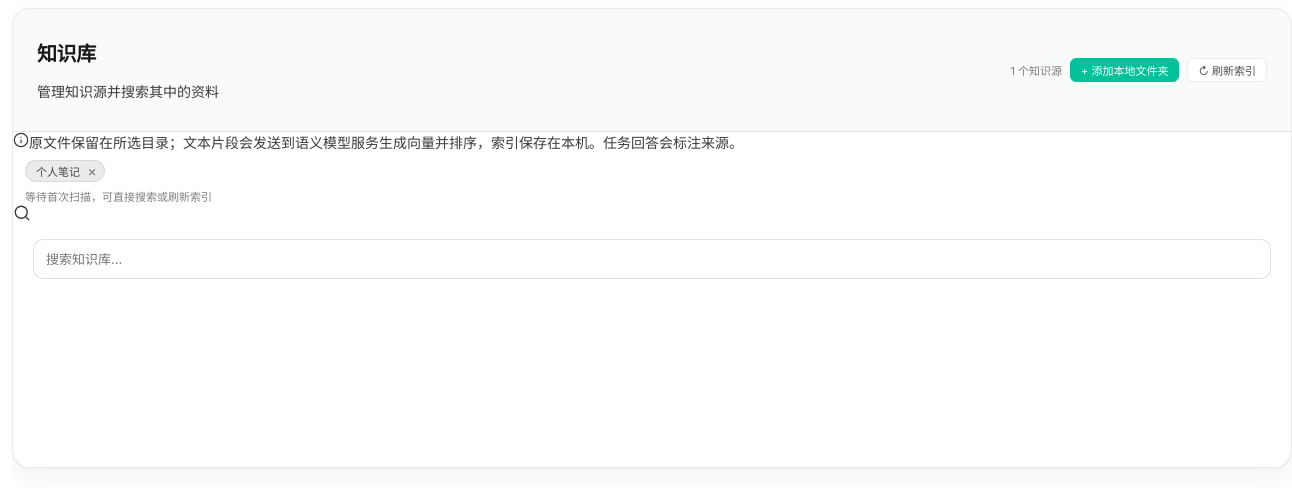
Test: KnowledgeBasePanel › 桌面端展示后台排序的搜索结果，不展示后台模型细节
The width and height of the screenshot is (1292, 488).
Type "出差坐高铁能报销吗" into the field labelled "搜索知识库" at (652, 259), box top-left (33, 239), bottom-right (1271, 279)
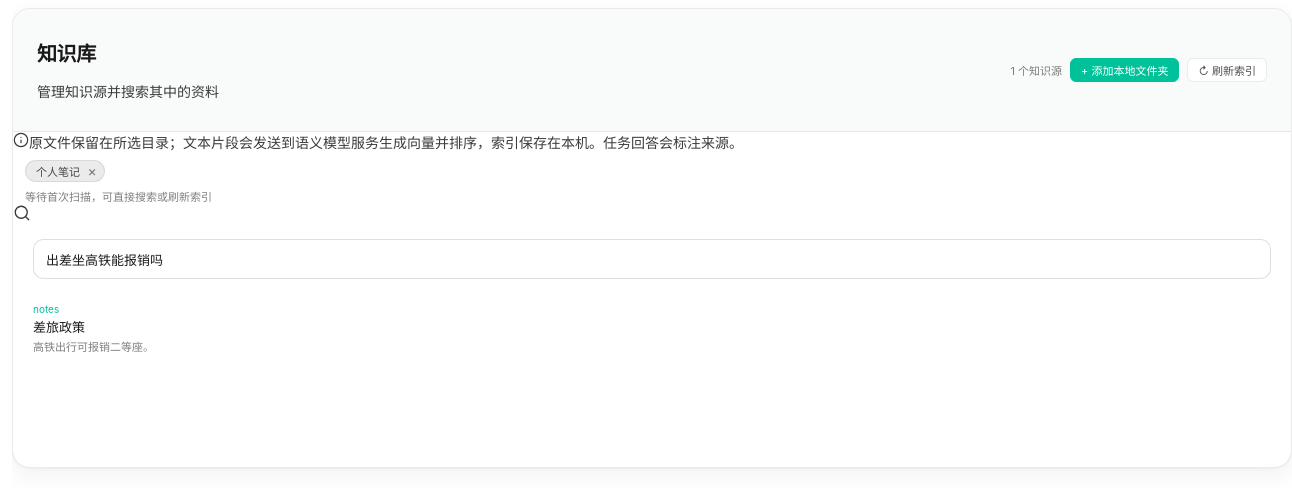
Expected: the button with aria-label "打开知识条目：差旅政策" is shown, top-left (21, 293), bottom-right (1283, 364)
